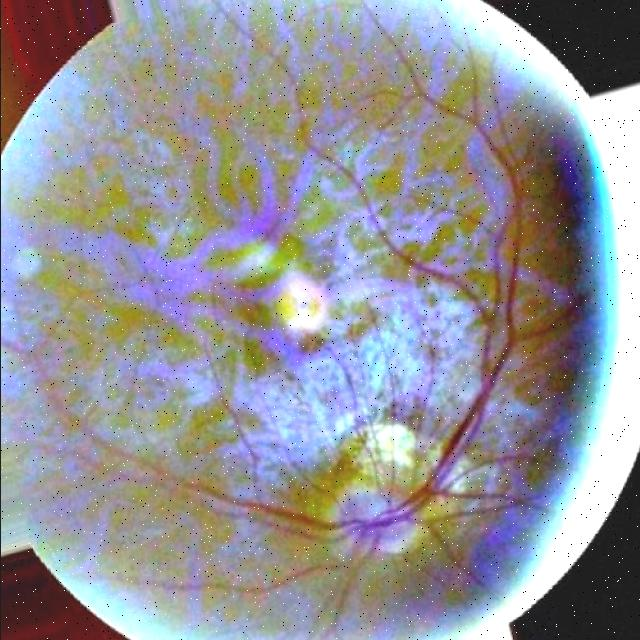Macula: (238, 270, 328, 351)
Nerves: (392, 248, 581, 523), (404, 503, 521, 599)
Optic Disk: (83, 430, 333, 528), (337, 487, 413, 564), (216, 397, 243, 443)
